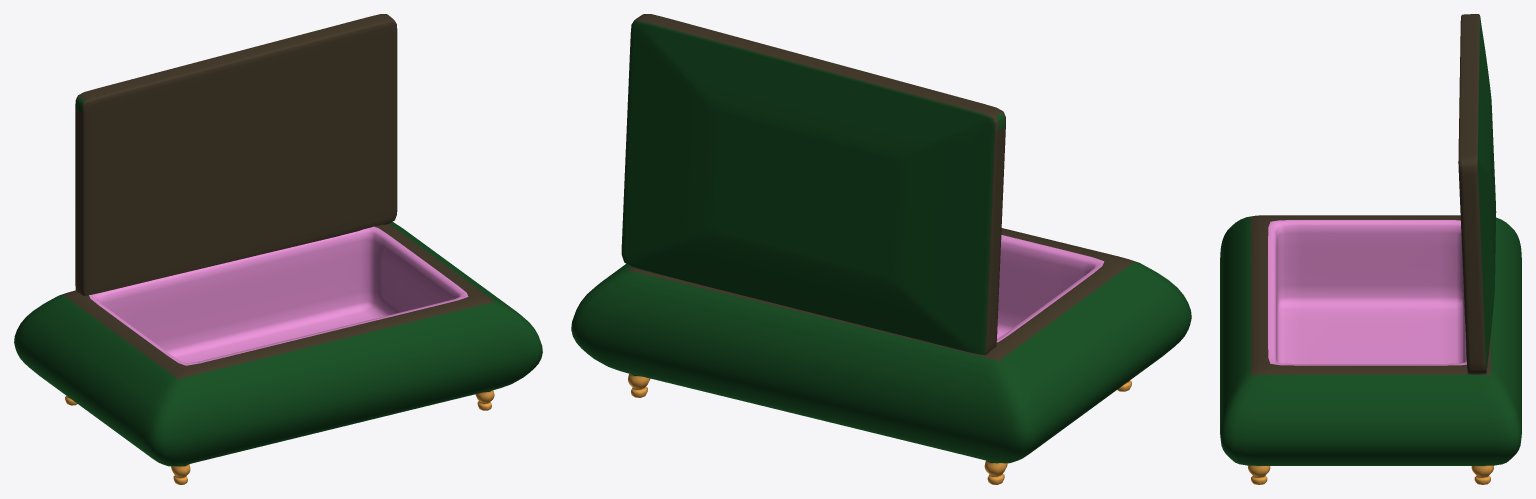
The model's file is stationary box.fbx.
3 views of the same model, side by side, from view 1: azimuth 30°, elevation 25°; view 2: azimuth 150°, elevation 25°; view 3: azimuth 270°, elevation 25° (orthographic). The views are drawn at different scales.
Visible parts, largest first — view 1: Cube, Cube.001; view 2: Cube.001, Cube; view 3: Cube, Cube.001.
Part boxes in pixels (x1,y1,x2,y2): Cube: (14,222,542,484); Cube.001: (75,14,397,295); Cube.001: (621,14,1005,355); Cube: (571,228,1191,484); Cube: (1220,215,1521,484); Cube.001: (1458,14,1496,374).
Size of the model in its own units: 456 by 352 by 294.
